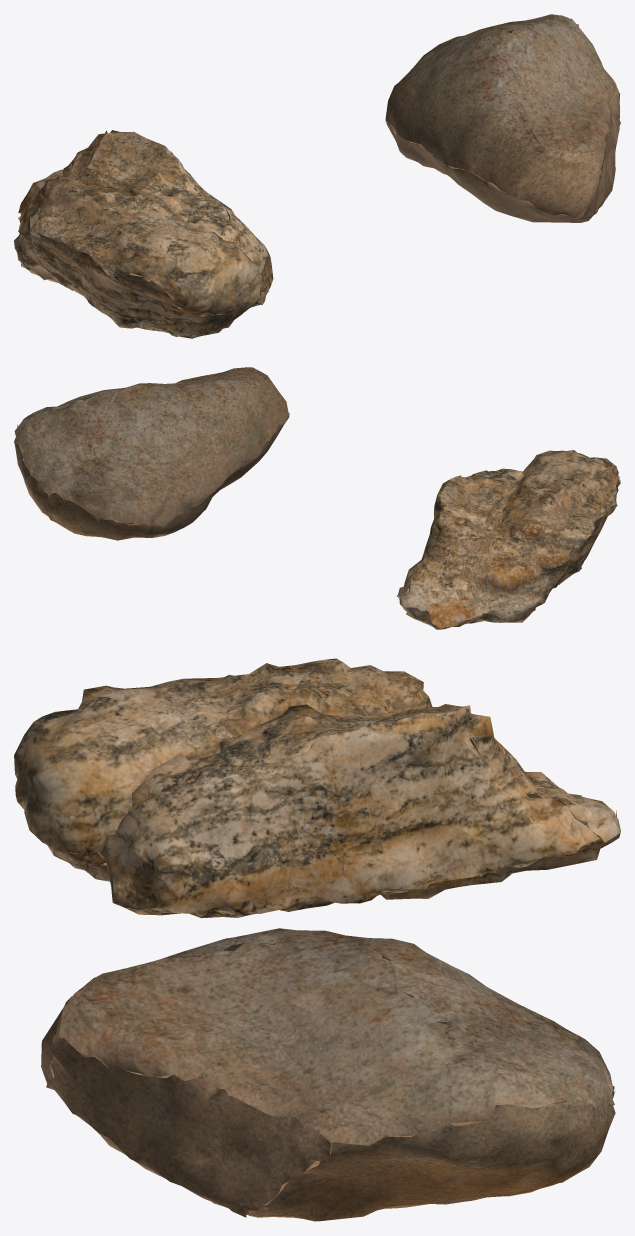
The model's file is namaqualand_boulders_01.glb.
3 views of the same model, one above another, from view 1: azimuth 30°, elevation 25°; view 2: azimuth 150°, elevation 25°; view 3: azimuth 270°, elevation 25° (orthographic). The views are drawn at different scales.
Parts seen in each view (by area): view 1: model; view 2: model; view 3: model.
Boxes of the visible parts, x1,y1,x2,y2 form: model: (14,14,620,338); model: (14,367,620,629); model: (14,658,620,1221).
Bounding box in the file's own units: 1.06 × 0.2525 × 0.5829.
1 material, 1 textured.
